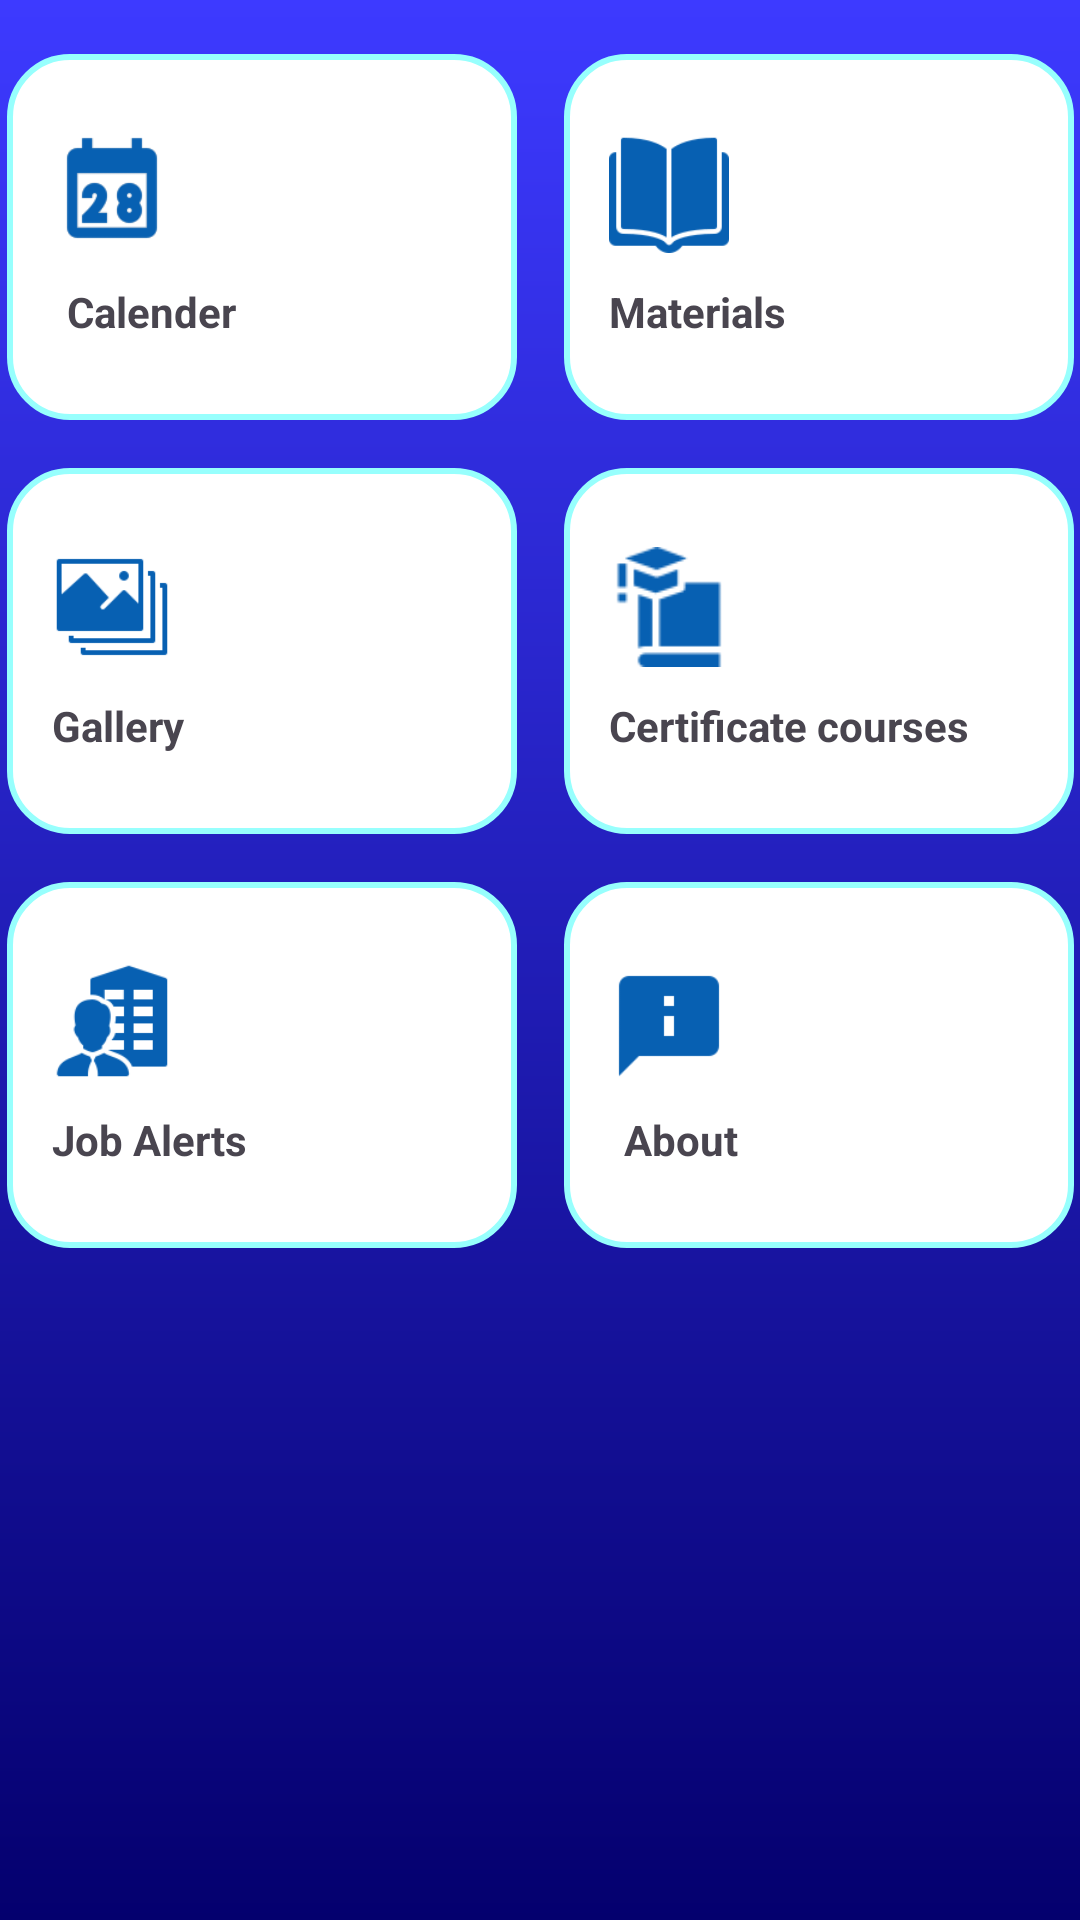

Named icons in this screenshot (1080×1920) and their bounding boxes, bbox(x1, y1, x2, y2):
job placement: bbox(56, 965, 168, 1077)
